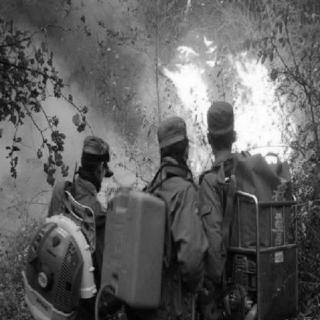Fire: (223, 37, 294, 165)
